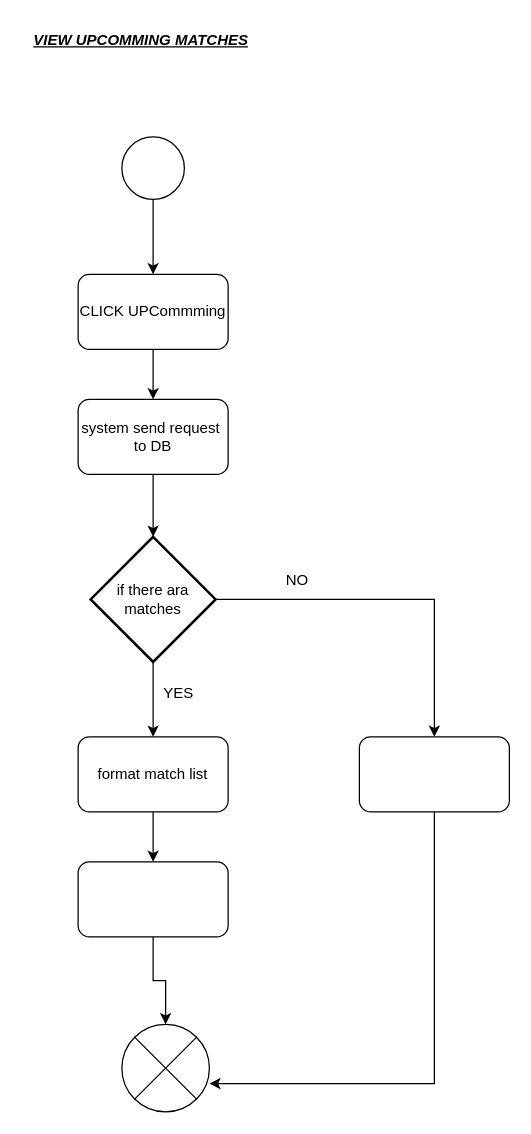
The diagram is 531 pixels wide and 1134 high, and some of its shapes have lost their labels. The shapes that lost their labels are listed below. From the top down, each one's box as (x1, y1, x2, y2) in pixels, then its label:
(358, 736, 509, 812): display NO upcomming matches
(77, 861, 228, 937): display list of matchs
